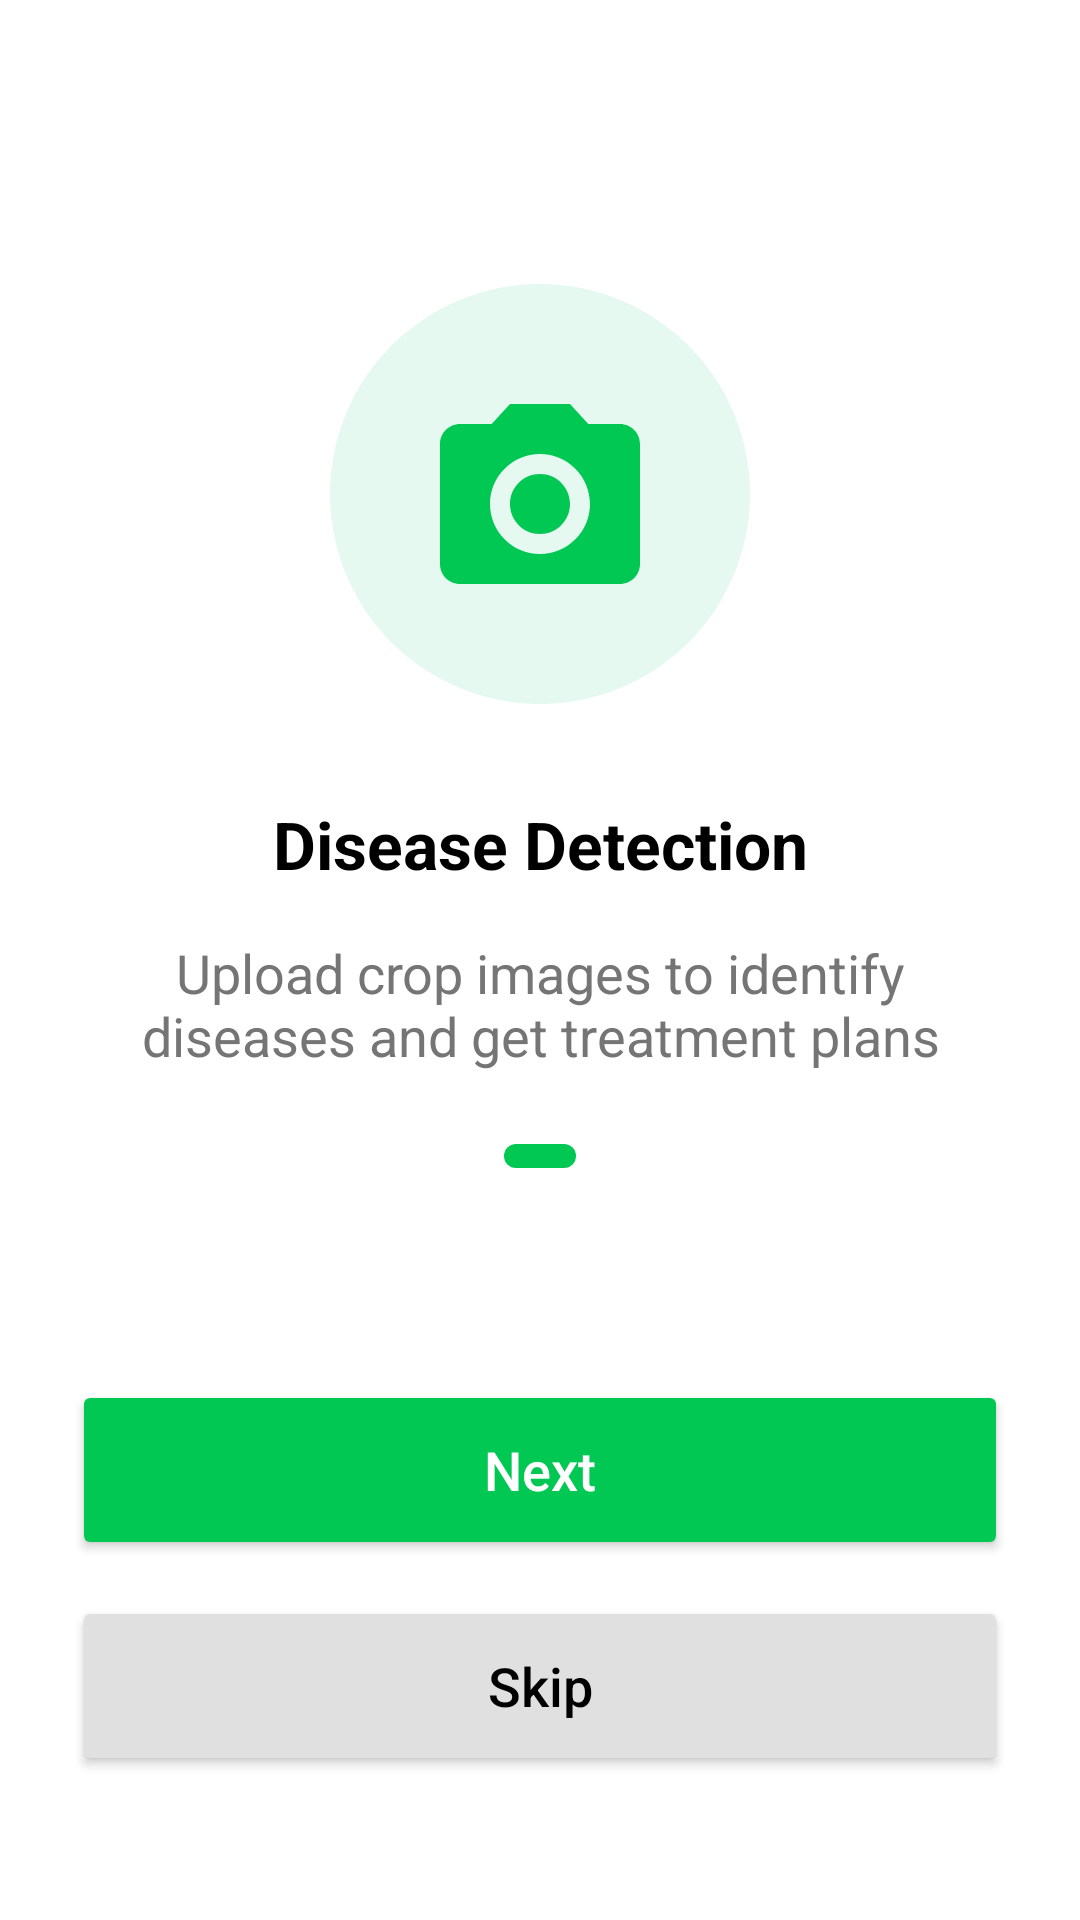

Where to tap for icons on this 1080px×1920px app screen, as [x,y]:
camera: [540,494]
